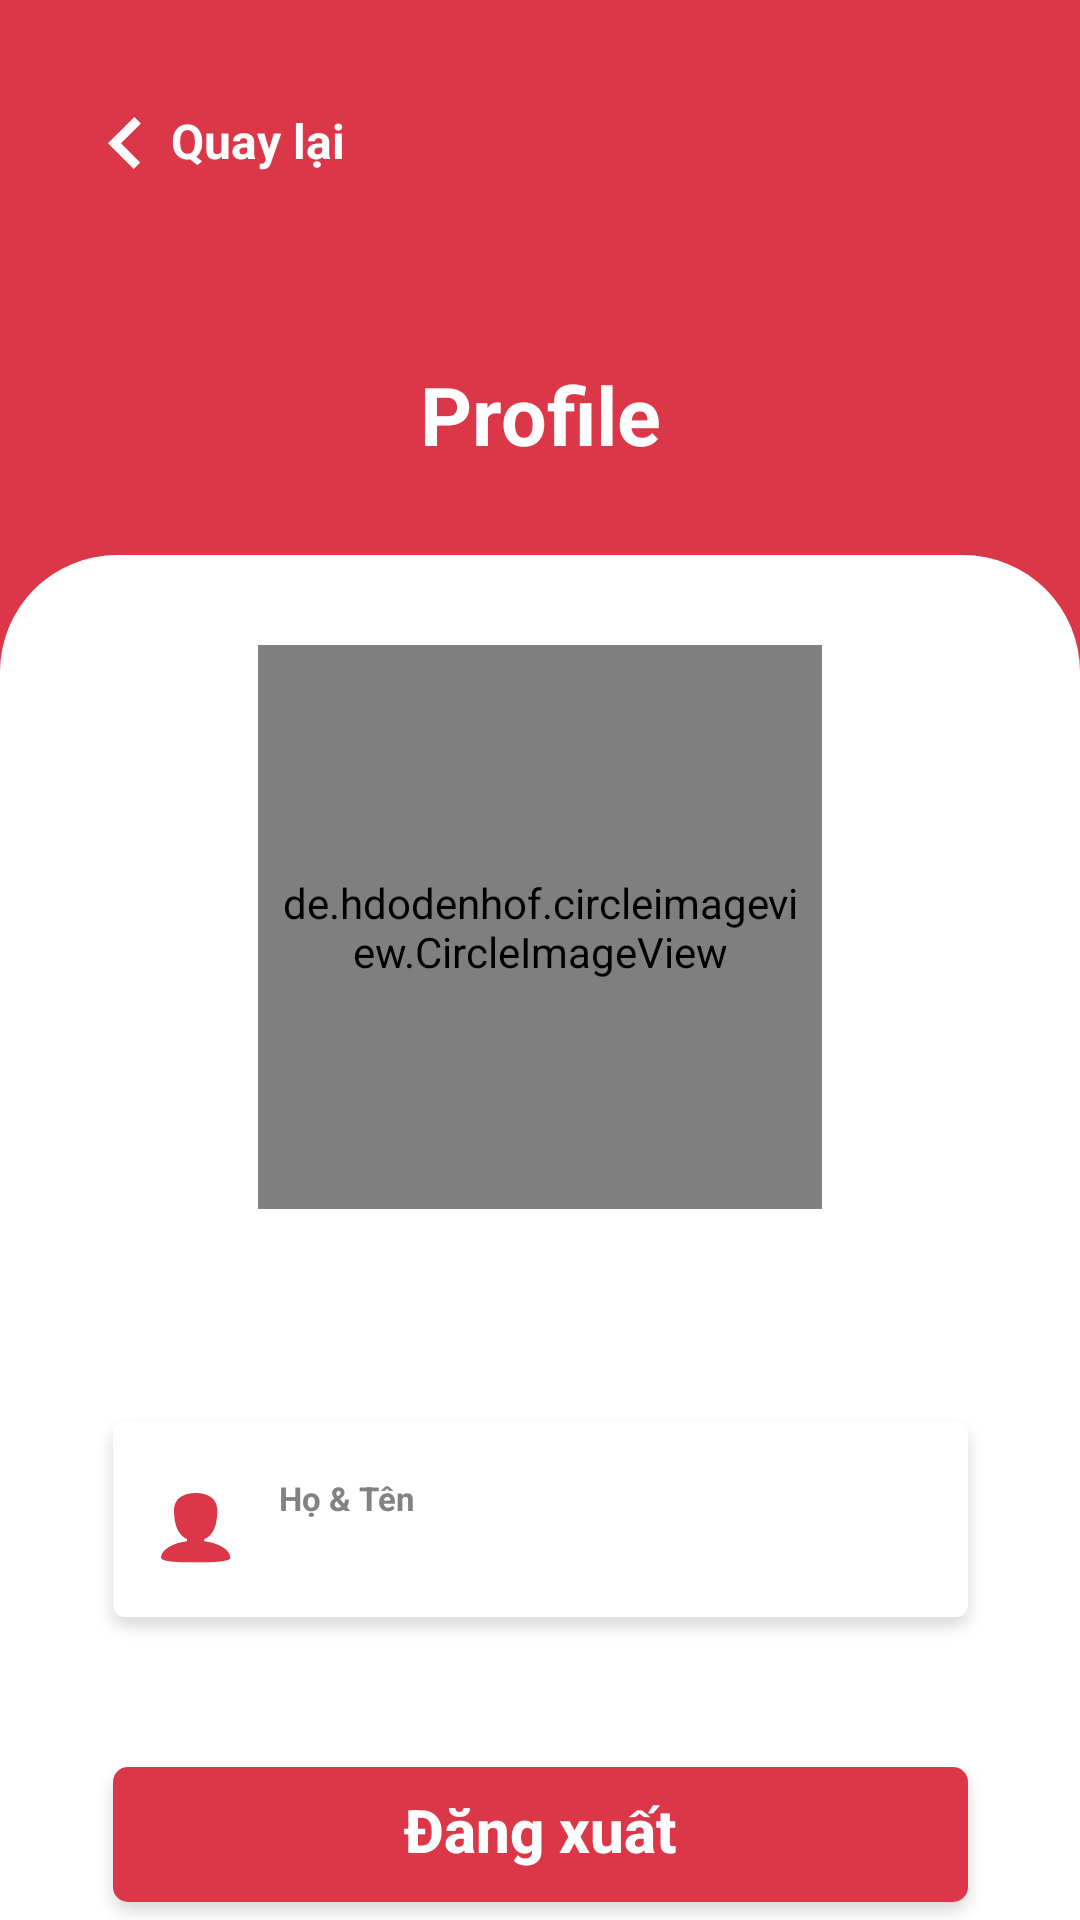

Icon click points for this 1080x1920 phone screenshot, format (x=x, y=y):
back: (x=124, y=143)
profile: (x=196, y=1528)
